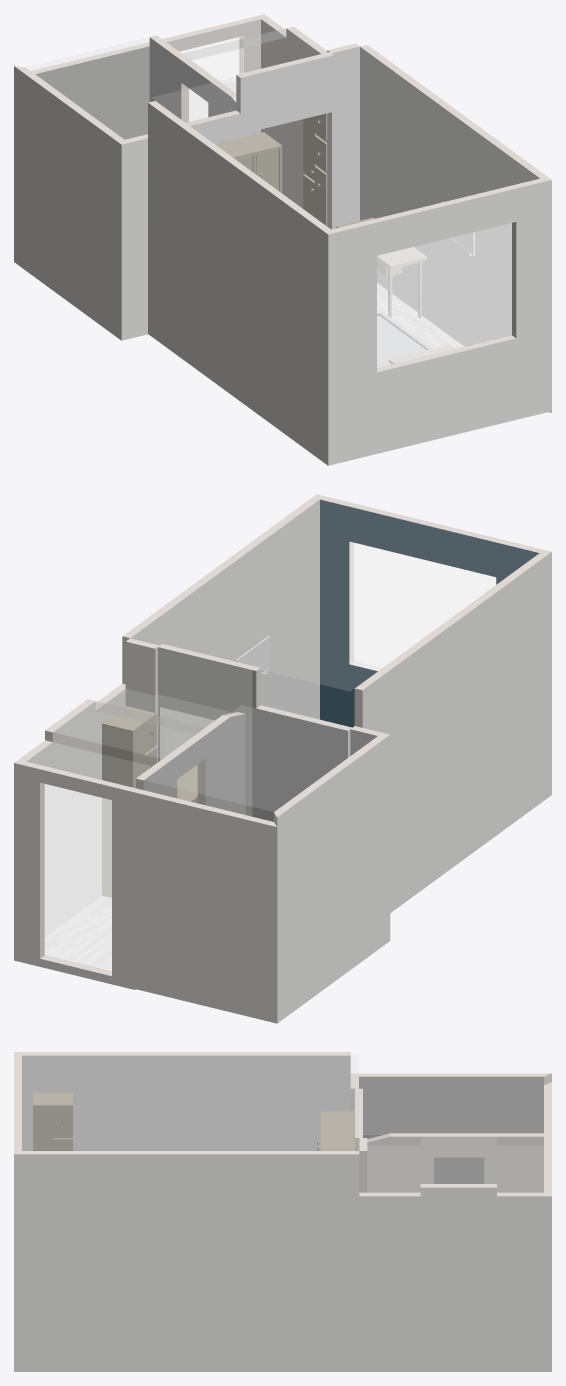
3 views of the same model, one above another, from view 1: azimuth 30°, elevation 25°; view 2: azimuth 150°, elevation 25°; view 3: azimuth 270°, elevation 25° (orthographic). The views are drawn at different scales.
Parts seen in each view (by area): view 1: wall_5 (×2), wall_8 (×3), ceiling_Bedroom_0, window_0 (×2), wall_7 (×2), wall_1 (×2), ceiling_Other_1, wall_3 (×2), ceiling_Other_2 (×3), wall_9 (×2), wall_6, wall_2 (+10 smaller); view 2: wall_5 (×2), ceiling_Bedroom_0, wall_3 (×2), wall_1 (×2), door_0 (×2), window_0 (×2), wall_7 (×2), wall_8 (×2), ceiling_Other_1, wall_4 (×2), wall_0 (×2), ceiling_Other_2 (×5) (+7 smaller); view 3: wall_7 (×2), wall_0 (×2), ceiling_Bedroom_0, wall_5 (×2), wall_1 (×2), ceiling_Other_1, wall_11 (×2), ceiling_Other_2 (×3), storage3, storage2, wall_8, wall_3 (+1 smaller).
Boxes of the visible parts, box(x1,y1,x2,y2) form: wall_5 (×2): box(148, 101, 330, 465); wall_8 (×3): box(328, 178, 551, 465); ceiling_Bedroom_0: box(152, 47, 538, 228); window_0 (×2): box(377, 223, 511, 367); wall_7 (×2): box(360, 45, 551, 346); wall_1 (×2): box(14, 66, 124, 340); ceiling_Other_1: box(26, 37, 236, 138); wall_3 (×2): box(31, 42, 149, 139); ceiling_Other_2 (×3): box(167, 19, 320, 83); wall_9 (×2): box(244, 55, 333, 229); wall_6: box(121, 138, 147, 340); wall_2: box(332, 46, 359, 228); wall_5 (×2): box(355, 551, 551, 912); ceiling_Bedroom_0: box(132, 500, 538, 690); wall_3 (×2): box(135, 789, 277, 1023); wall_1 (×2): box(274, 734, 390, 1023); door_0 (×2): box(45, 784, 111, 971); window_0 (×2): box(349, 542, 495, 670); wall_7 (×2): box(122, 494, 319, 756); wall_8 (×2): box(317, 494, 550, 727); ceiling_Other_1: box(141, 705, 376, 811); wall_4 (×2): box(14, 763, 135, 989); wall_0 (×2): box(14, 683, 125, 936); ceiling_Other_2 (×5): box(27, 689, 231, 787); wall_7 (×2): box(14, 1151, 359, 1371); wall_0 (×2): box(359, 1184, 551, 1371); ceiling_Bedroom_0: box(22, 1056, 358, 1149); wall_5 (×2): box(14, 1052, 350, 1150); wall_1 (×2): box(351, 1073, 551, 1183); ceiling_Other_1: box(359, 1077, 543, 1134); wall_11 (×2): box(367, 1133, 543, 1192); ceiling_Other_2 (×3): box(368, 1135, 543, 1191); storage3: box(33, 1092, 72, 1150); storage2: box(317, 1111, 354, 1150); wall_8: box(14, 1052, 21, 1153); wall_3: box(544, 1082, 551, 1143).
Size of the model in its own units: 3.36 by 2.99 by 6.7.
